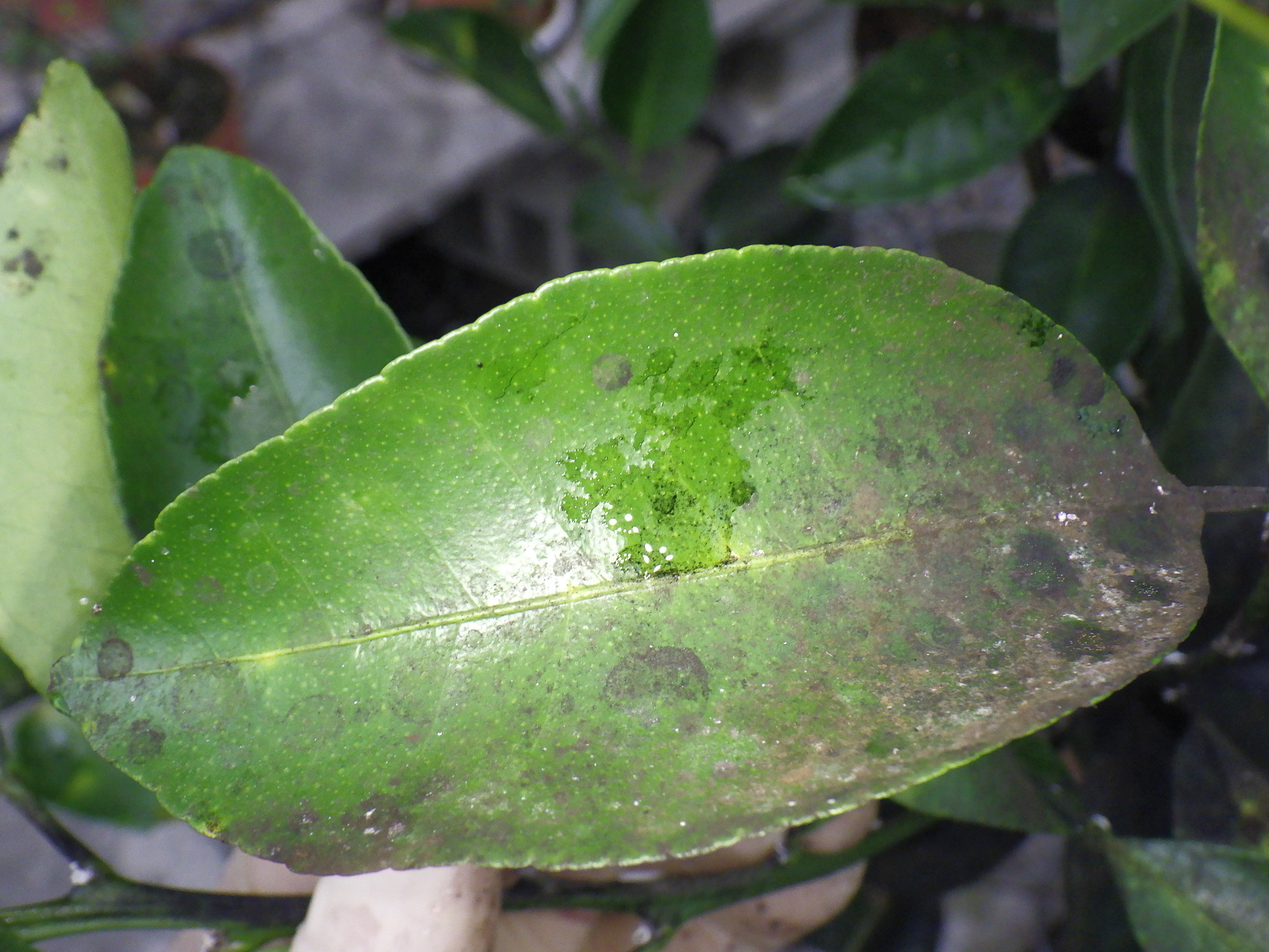Sooty_Mold: (55, 247, 1206, 873)
